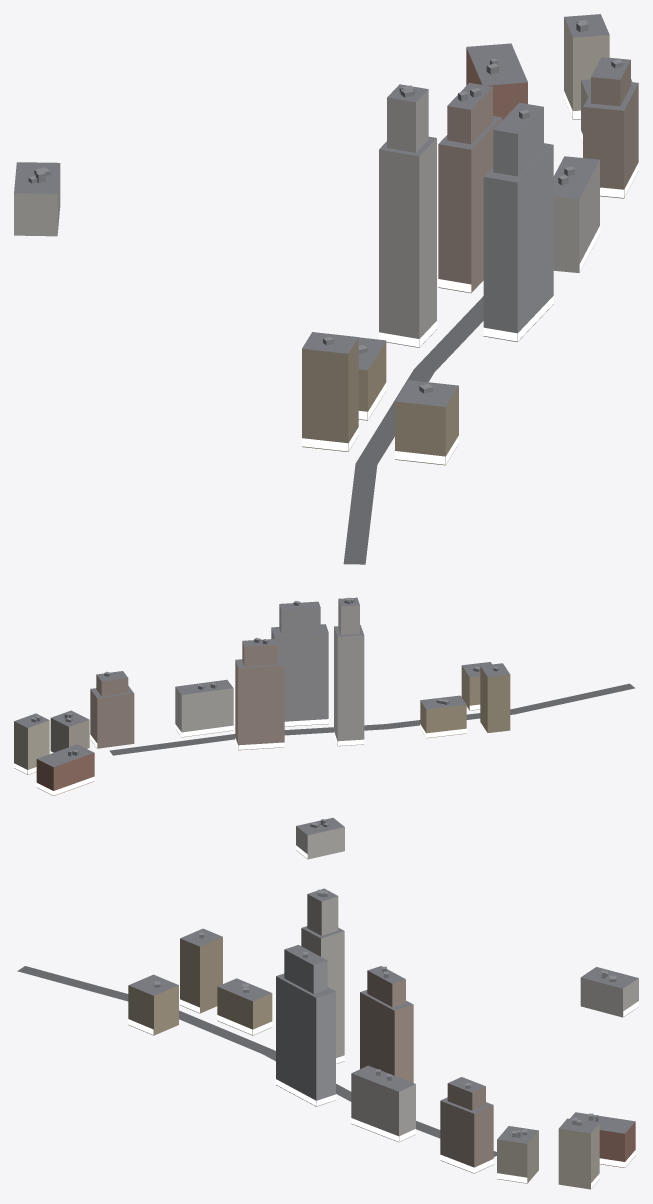
3 views of the same model, one above another, from view 1: azimuth 30°, elevation 25°; view 2: azimuth 150°, elevation 25°; view 3: azimuth 270°, elevation 25° (orthographic). The views are drawn at different scales.
Bounding box in the file's own units: 283 × 98.93 × 333.
